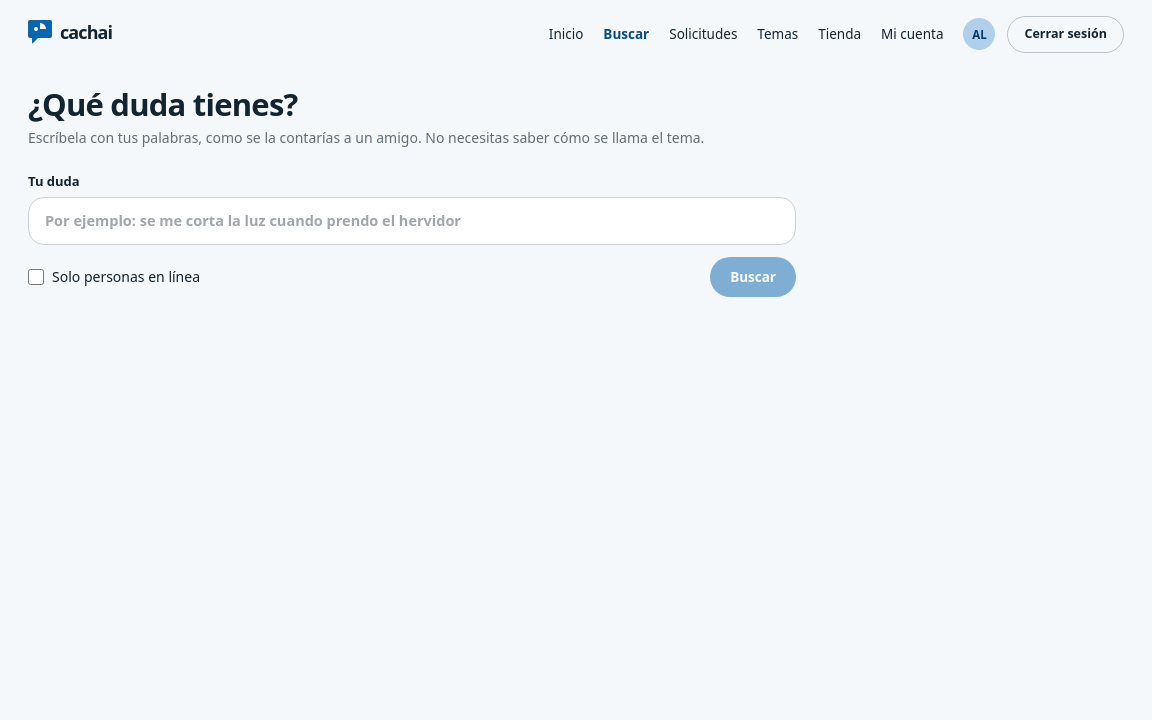
Test: buscador › pedir ayuda envia la solicitud con el mensaje y lleva a Solicitudes
The image size is (1152, 720).
Type "se me corta la luz" into the field labelled "Tu duda" at (412, 221), box [28,197,796,245]
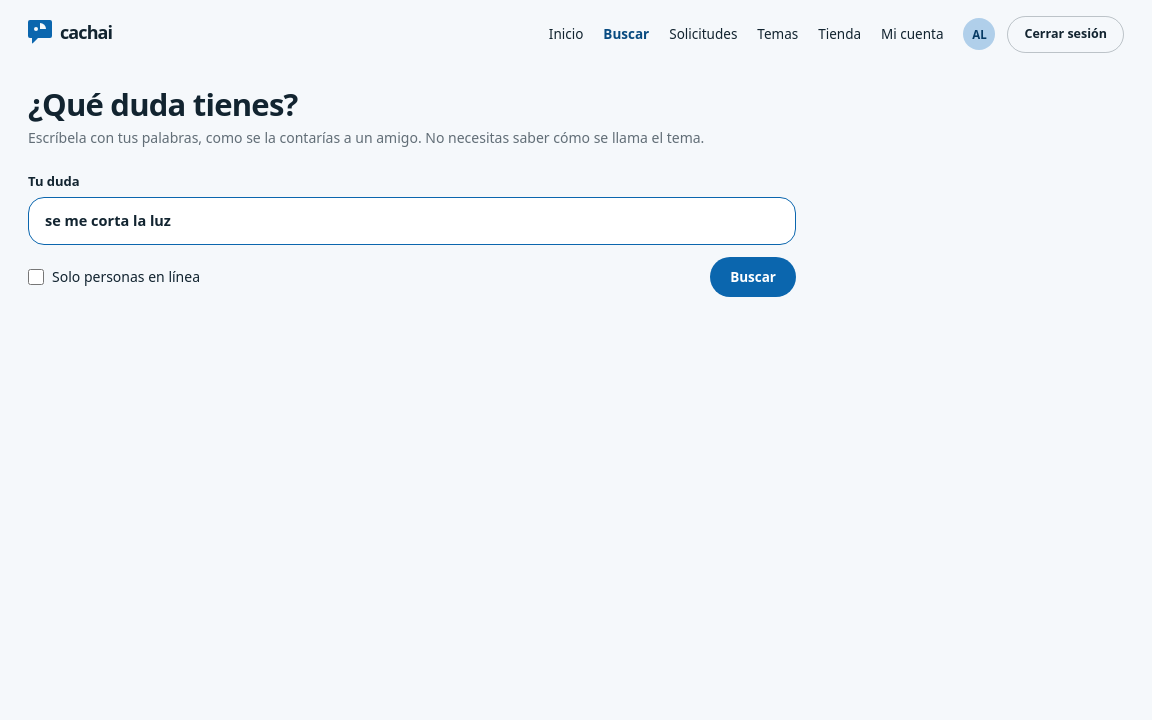
Click the button "Buscar" at (753, 277), box [710,257,796,297]
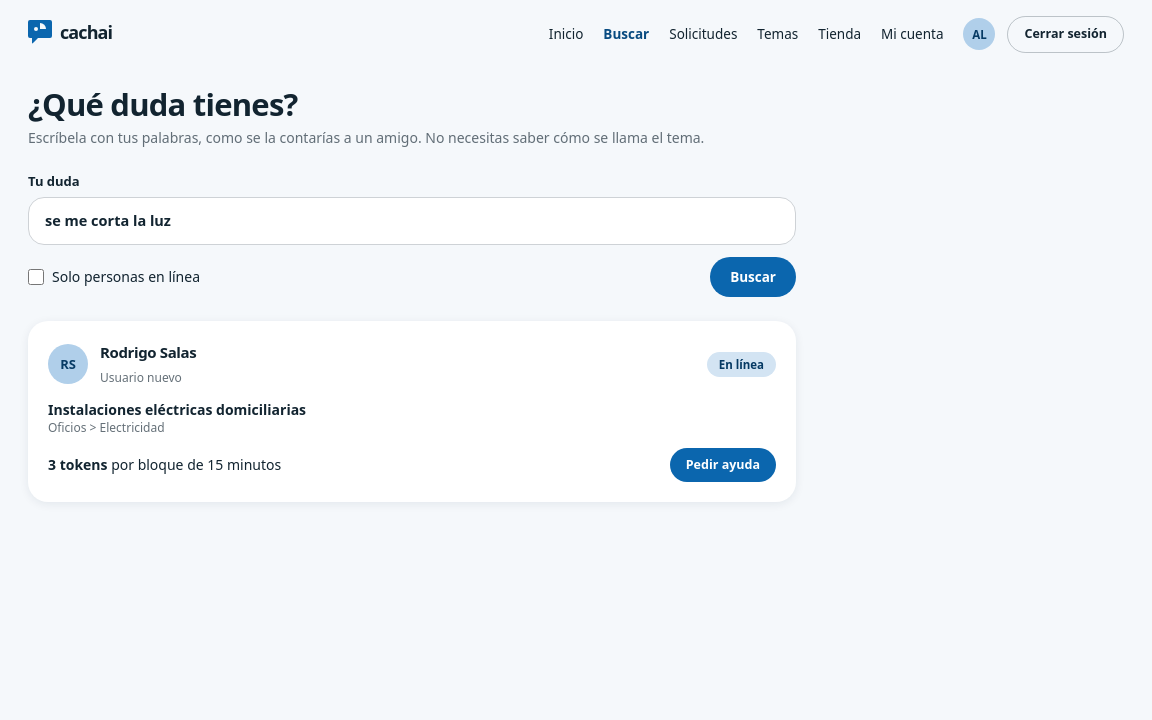
Click the button with aria-label "Pedir ayuda a Rodrigo Salas" at (723, 465), box [670,448,776,482]
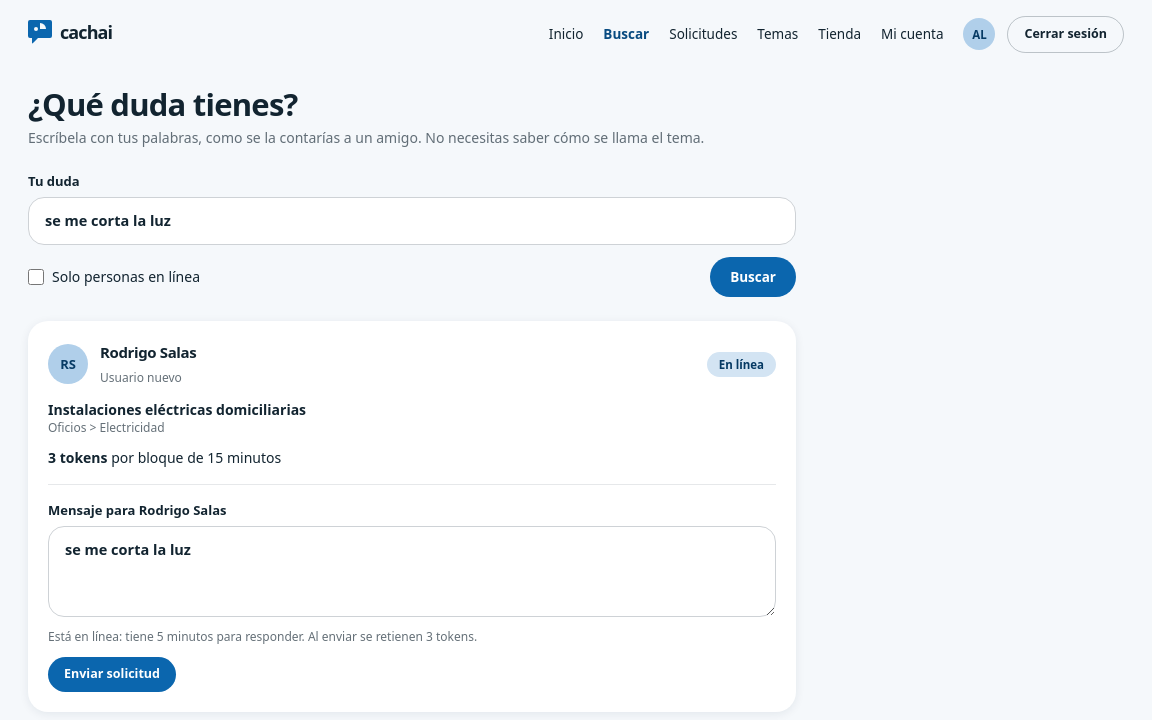
Click the button "Enviar solicitud" at (112, 675), box [48,657,176,692]
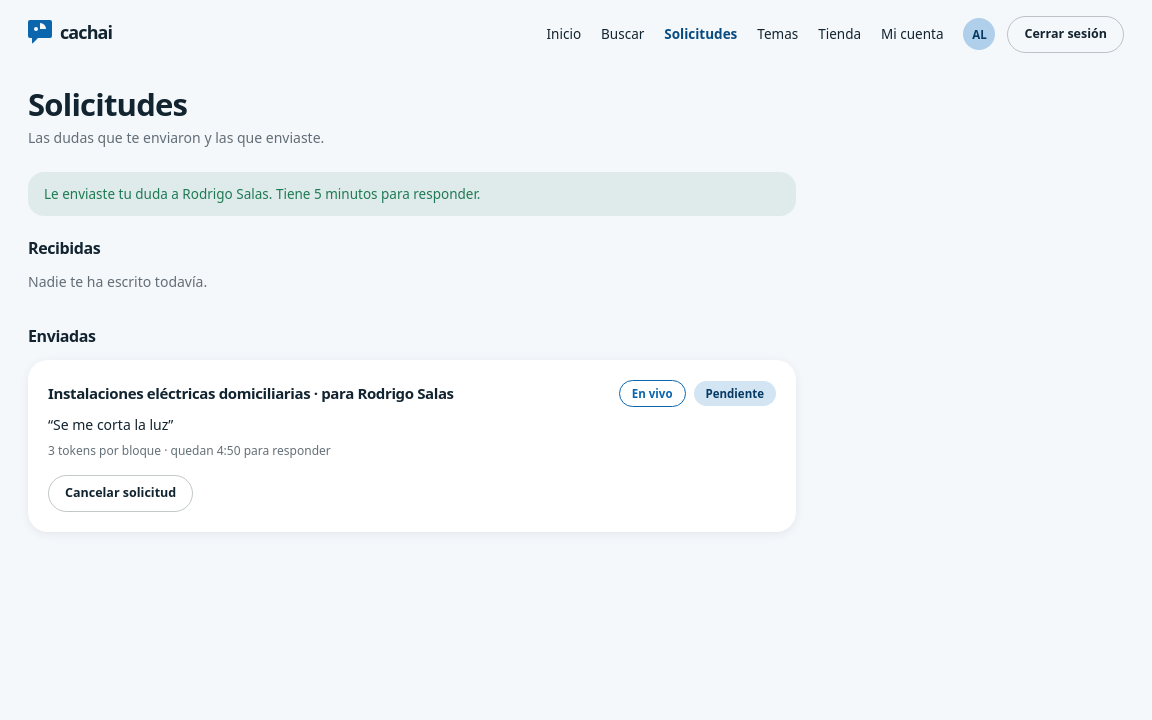
Expected: the heading "Solicitudes" is shown, [28,83,187,125]
Expected: the text "Le enviaste tu duda a Rodrigo Salas. Tiene 5 minutos para responder." is shown, [28,172,796,216]
